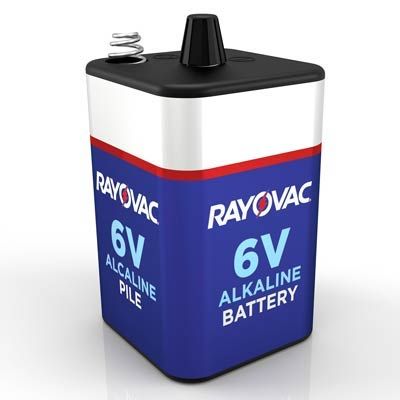6V: (79, 8, 340, 386)
